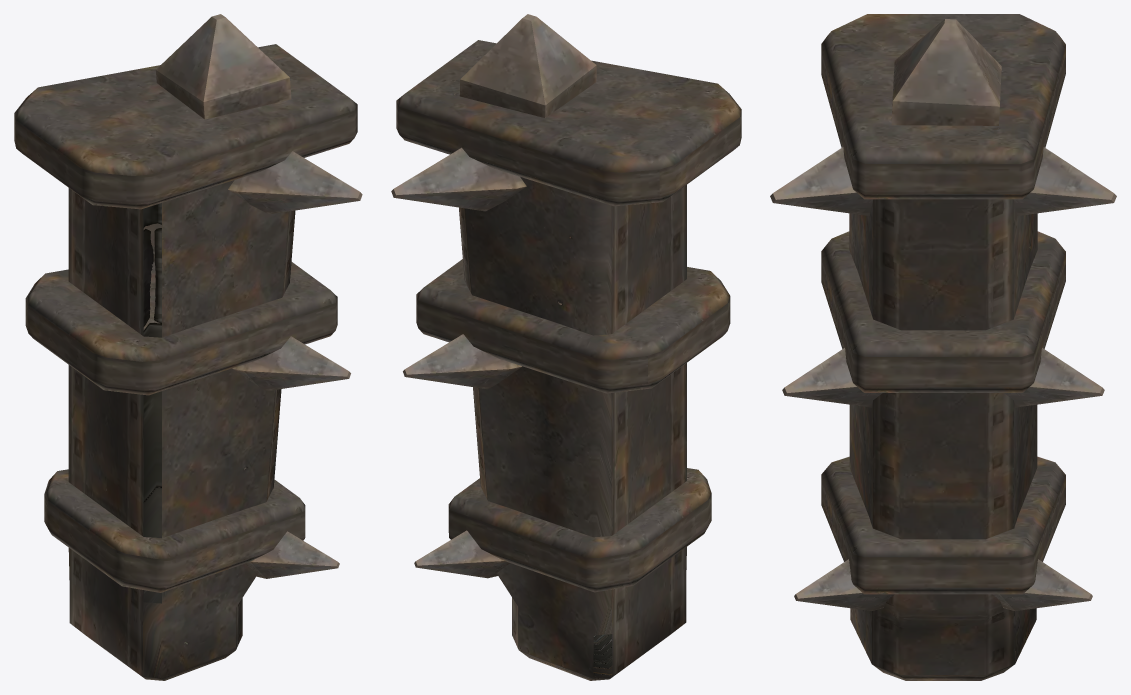
3 views of the same model, side by side, from view 1: azimuth 30°, elevation 25°; view 2: azimuth 150°, elevation 25°; view 3: azimuth 270°, elevation 25° (orthographic). The views are drawn at different scales.
Visible parts, largest first — view 1: SM_DR_MetalConnector_LOD0; view 2: SM_DR_MetalConnector_LOD0; view 3: SM_DR_MetalConnector_LOD0.
Boxes of the visible parts, x1=… form: SM_DR_MetalConnector_LOD0: x1=14, y1=14, x2=362, y2=680; SM_DR_MetalConnector_LOD0: x1=391, y1=14, x2=741, y2=680; SM_DR_MetalConnector_LOD0: x1=770, y1=14, x2=1116, y2=680.
Size of the model in its own units: 2.09 by 4.48 by 2.12.
3 materials, 3 textured.
